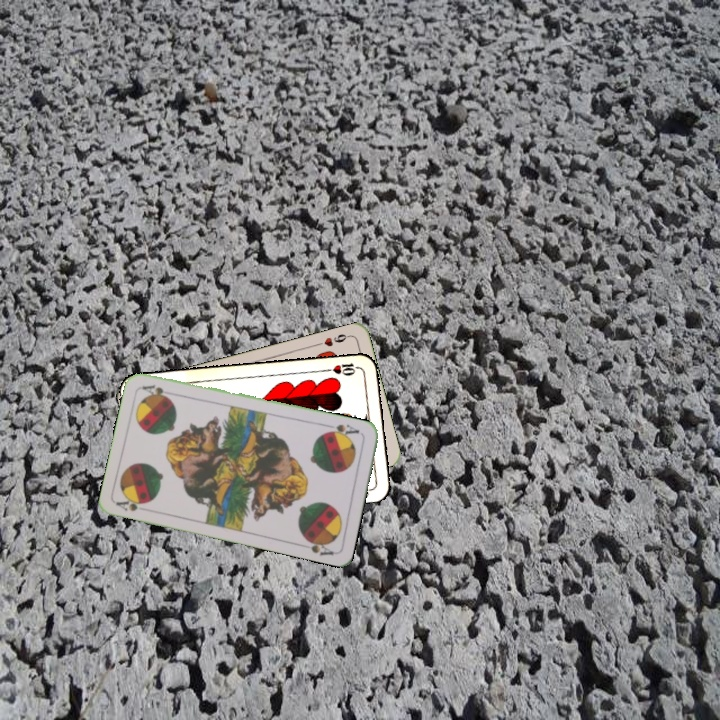H10: (322, 359, 363, 378)
H9: (313, 330, 353, 349)
SA: (322, 420, 362, 440), (113, 494, 153, 514)
